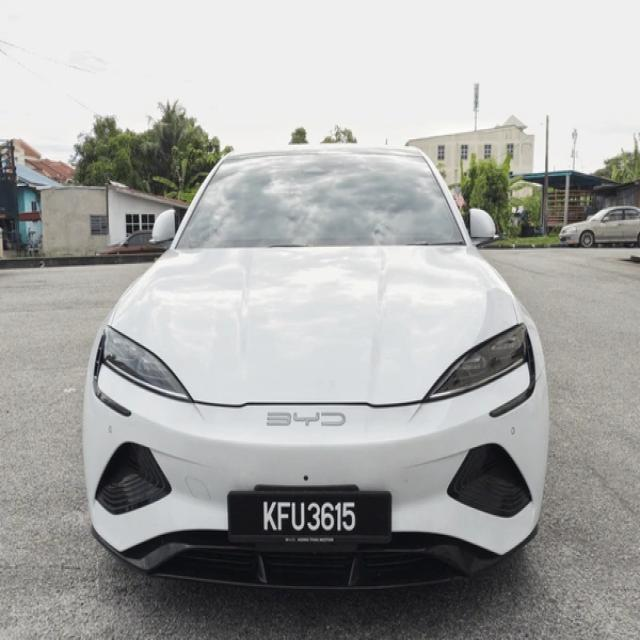byd: (261, 403, 348, 436)
